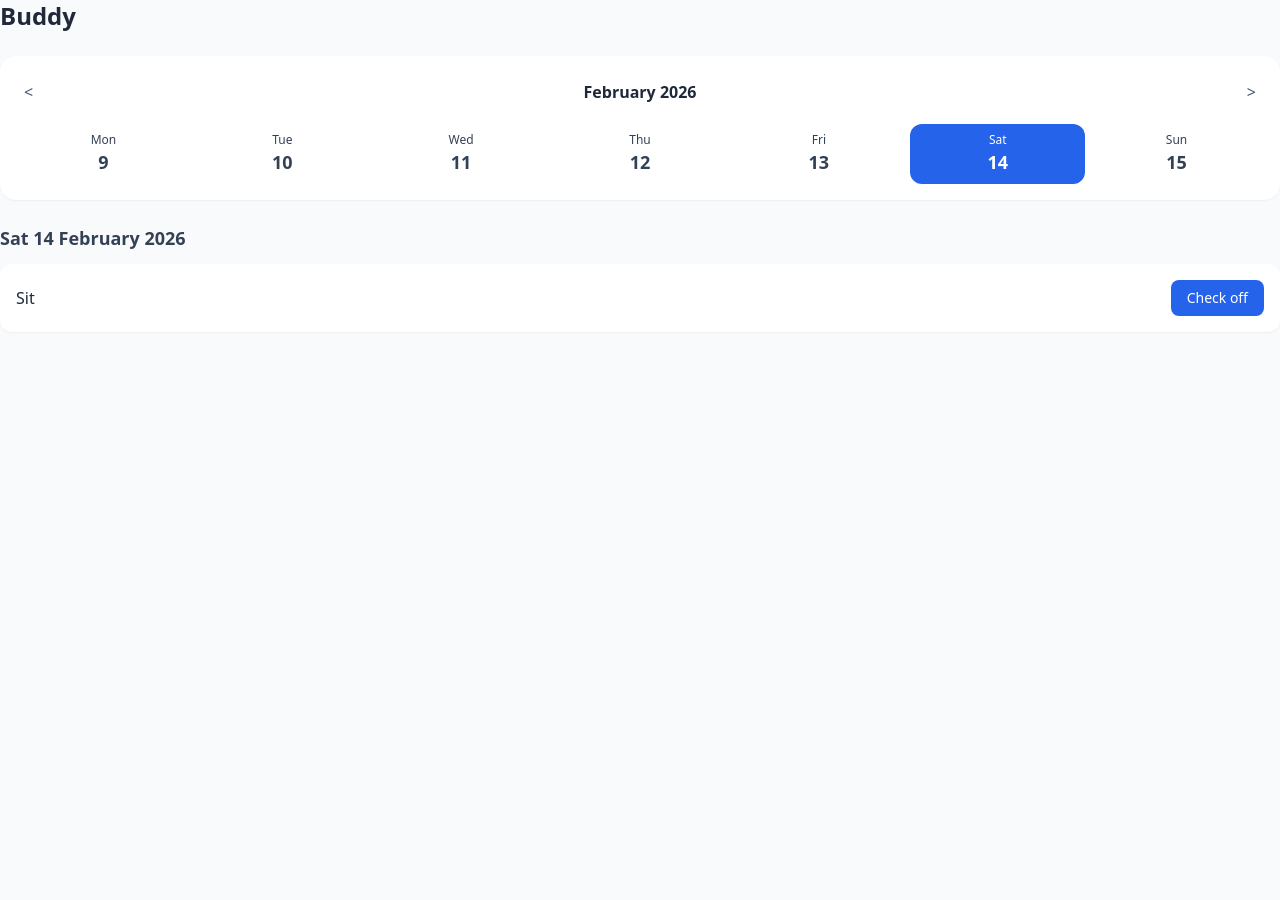
Test: Progress › check off button opens bottom sheet
What coordinates should you click on to do the following:
click the button "Check off"
I would click on:
 (1217, 298)
Its box is [1171,280,1264,316].
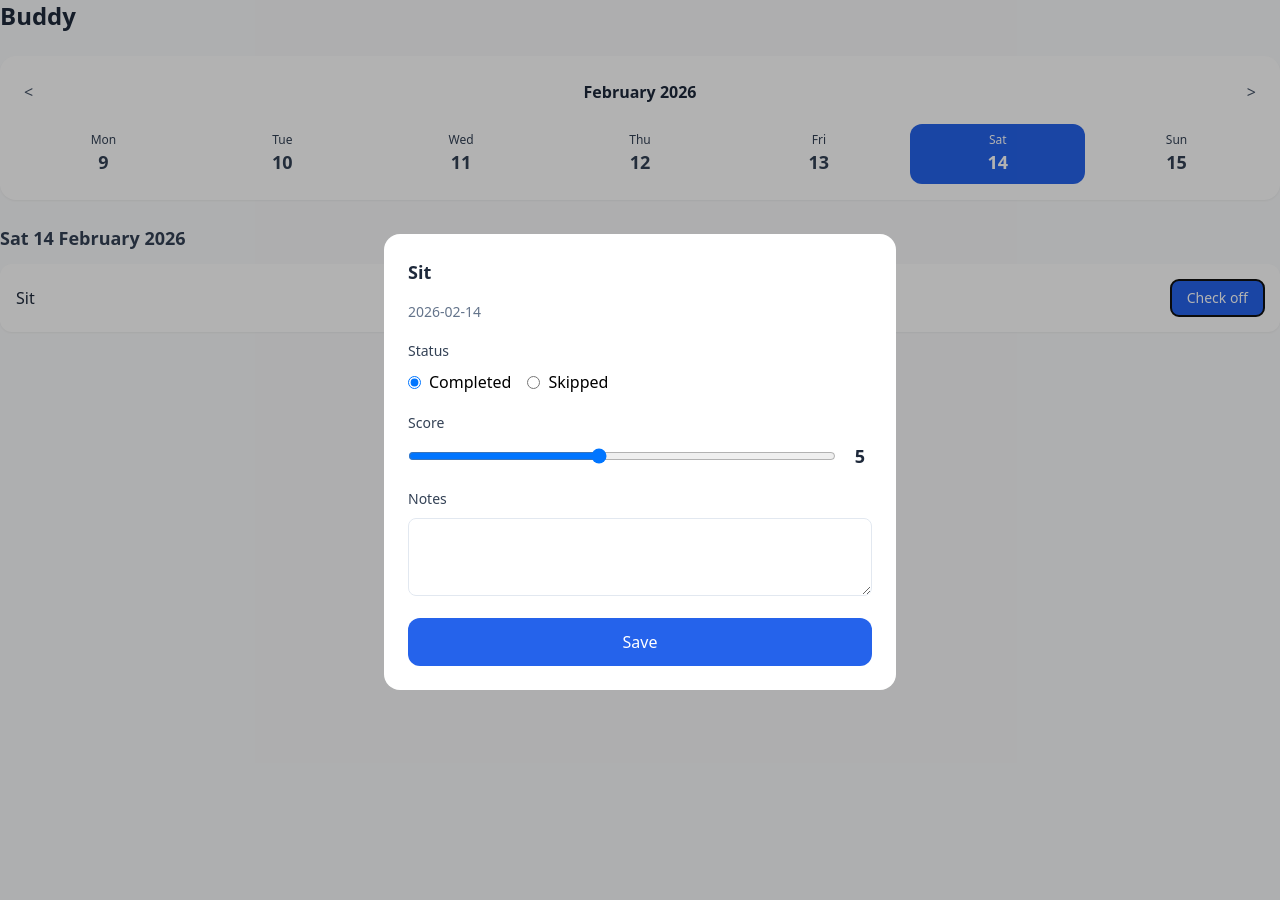
Check: the text "2026-02-14" is shown, box [408,302,481,321]
Check: the radio button labelled "Completed" is checked, box [408,376,421,388]
Check: the radio button labelled "Skipped" is not checked, box [527,376,540,388]
